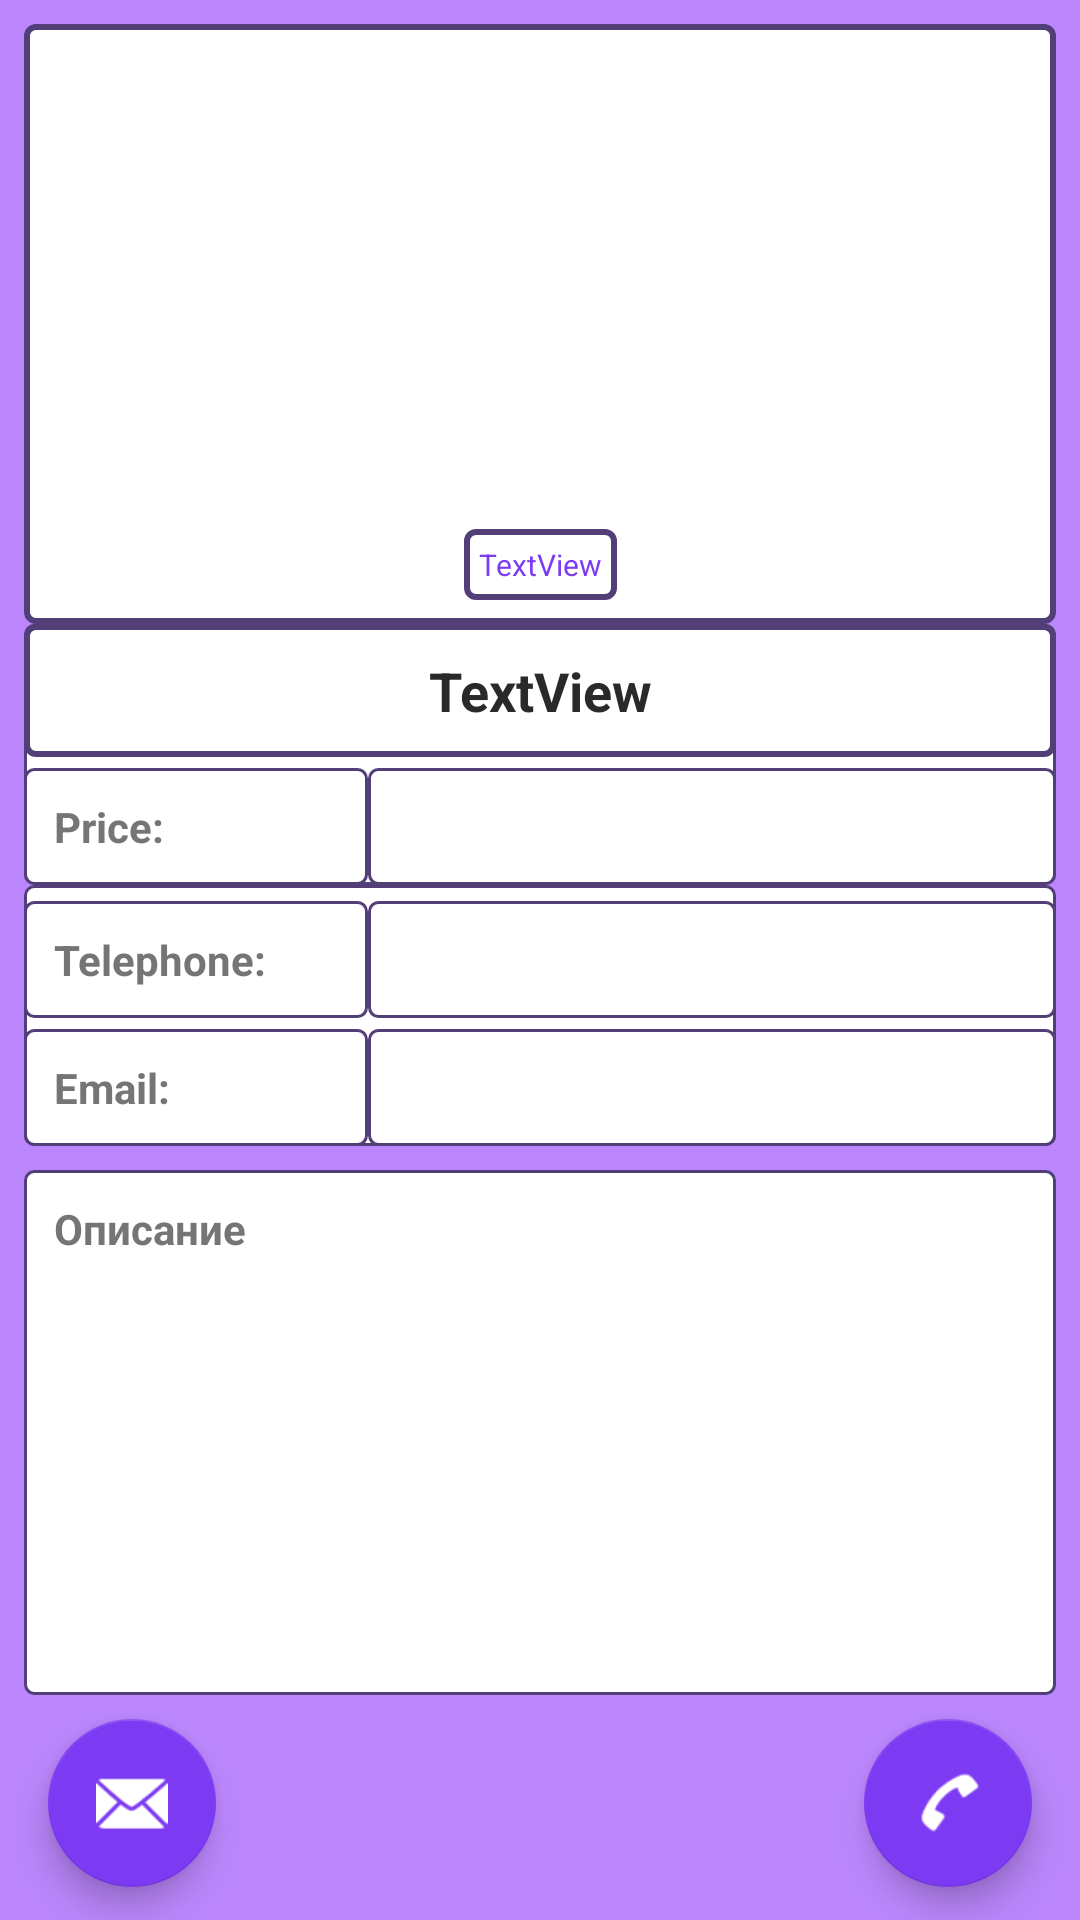

Named icons in this screenshot (1080×1920) and their centers, [x,y]:
email: [132,1803]
sym action call: [948,1803]
